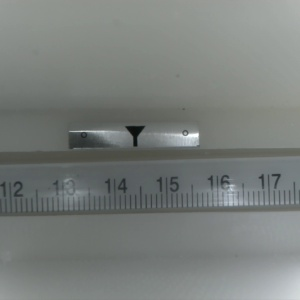1: (52, 179, 59, 194), (258, 174, 265, 188), (206, 175, 213, 189), (155, 176, 161, 192), (1, 181, 7, 197), (104, 178, 110, 193)
2: (12, 181, 23, 196)
3: (65, 179, 75, 193)
4: (117, 178, 127, 193)
5: (169, 176, 178, 192)
6: (220, 175, 230, 189)
7: (271, 174, 281, 189)
finger: (123, 126, 145, 149)
